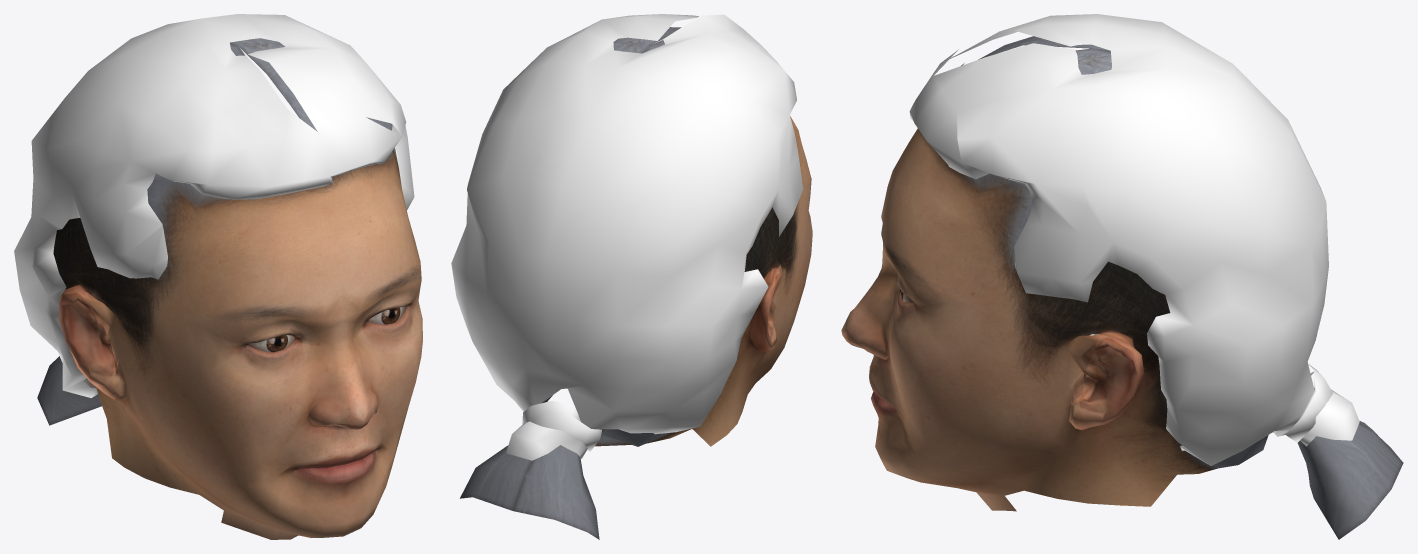
File: jingwang.glb
The picture shows the model from 3 angles, left to right: view 1: azimuth 30°, elevation 25°; view 2: azimuth 150°, elevation 25°; view 3: azimuth 270°, elevation 25°; orthographic projection. The views are drawn at different scales.
Parts seen in each view (by area): view 1: face, cap; view 2: cap, face; view 3: cap, face.
Boxes of the visible parts, x1,y1,x2,y2 form: face: (37,38,422,539); cap: (14,14,414,397); cap: (451,14,803,460); face: (460,27,812,539); cap: (909,14,1359,465); face: (841,36,1403,539).
Bounding box in the file's own units: 0.2022 × 0.2637 × 0.2886.
Materials: 2 (1 with a texture image).
